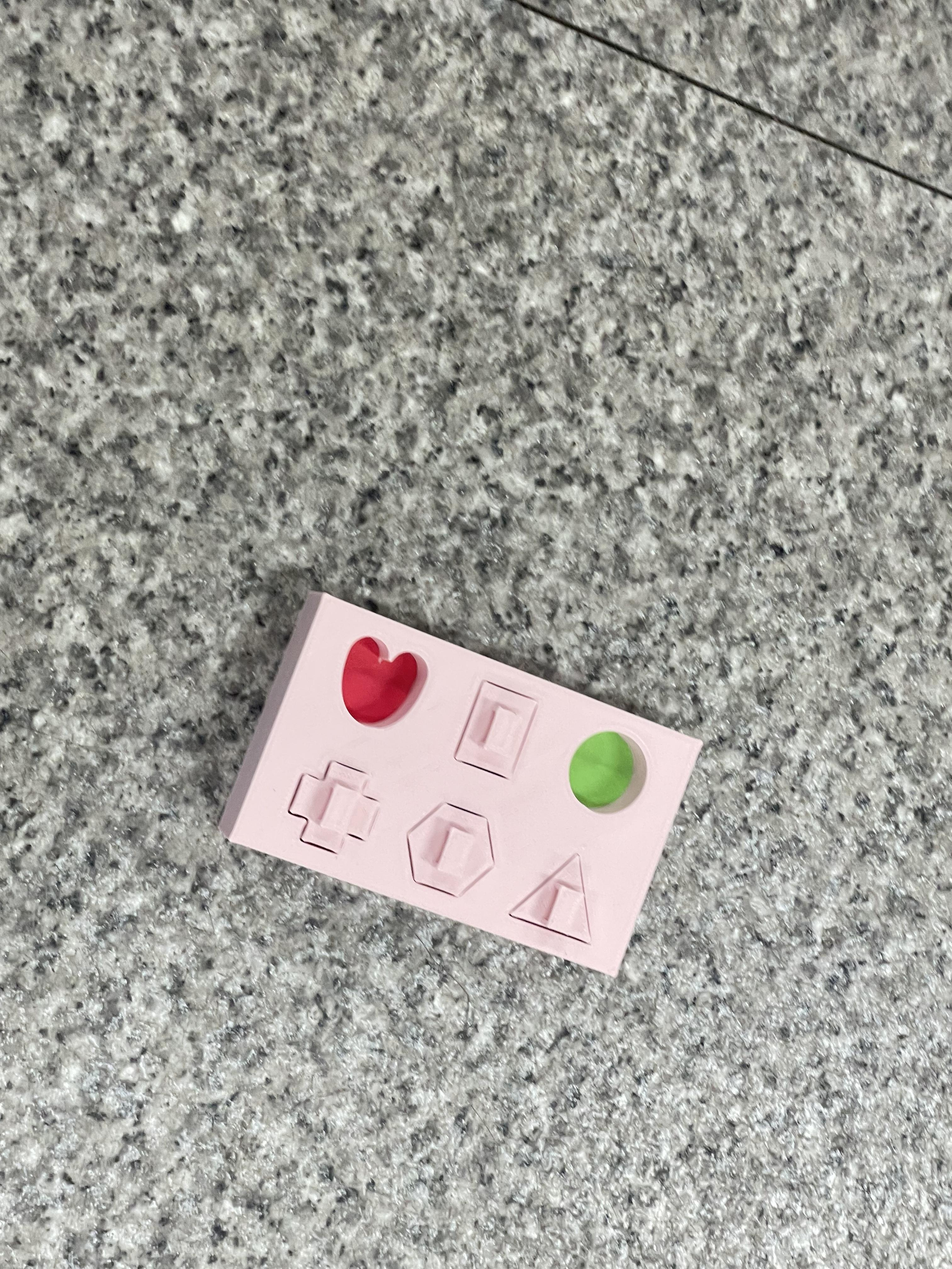unsolved: (192, 561, 735, 1019)
